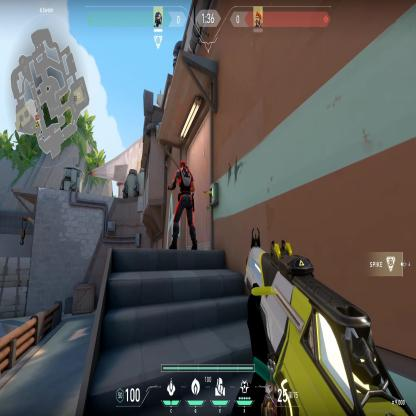enemy: (167, 159, 198, 250)
